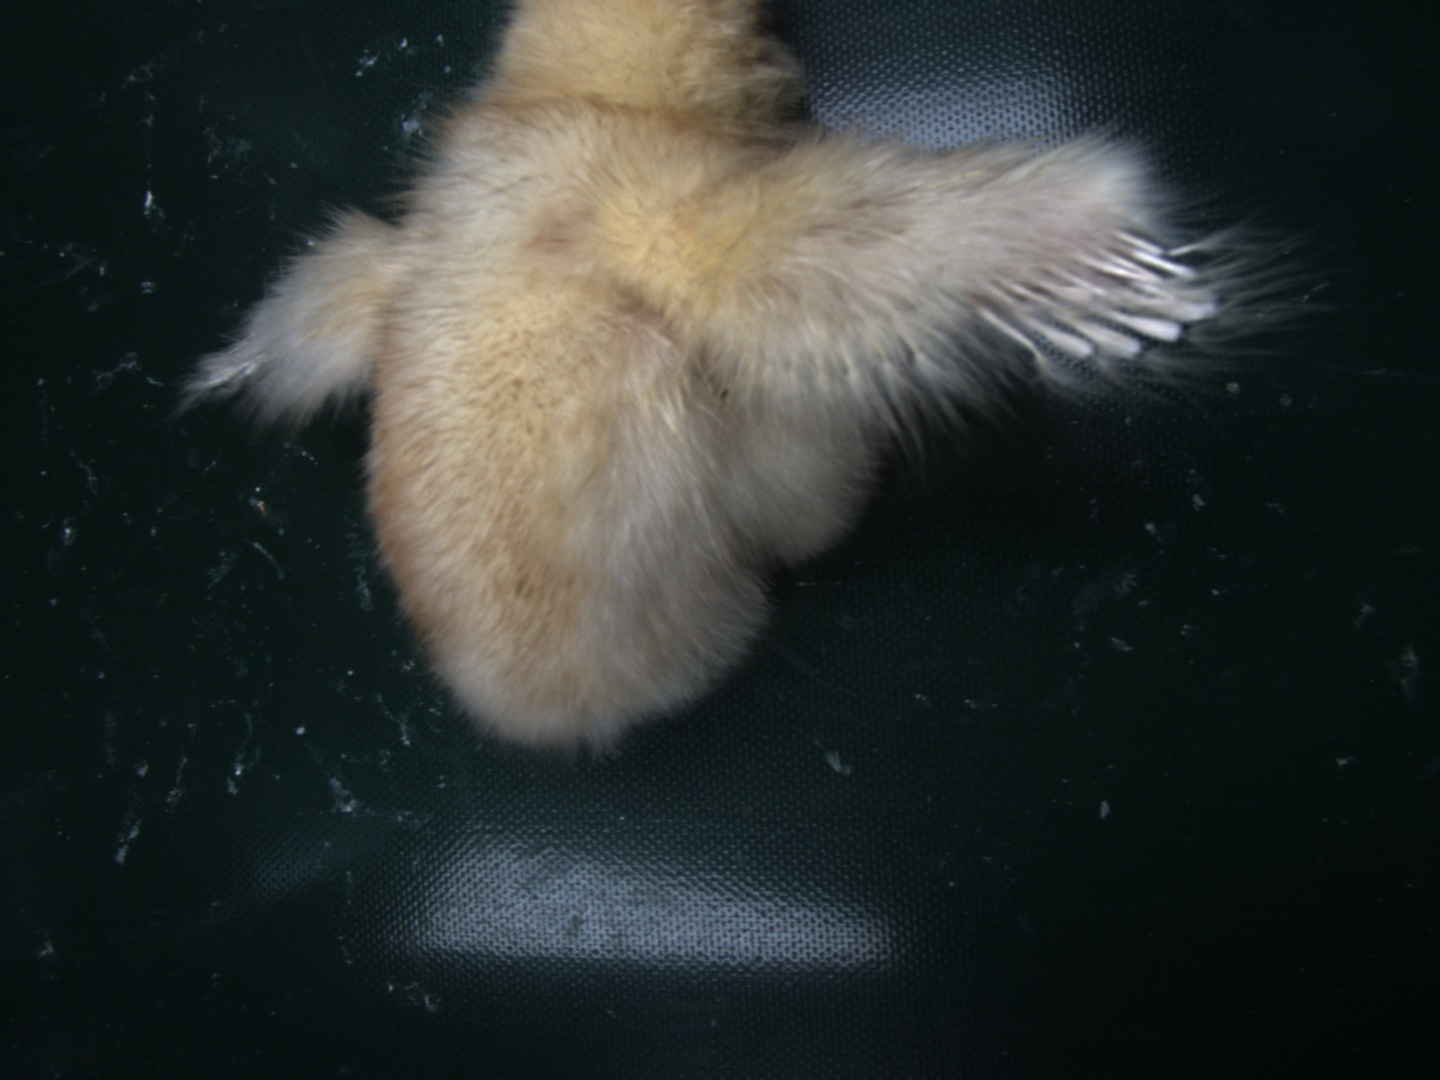female: (982, 227, 1223, 362)
